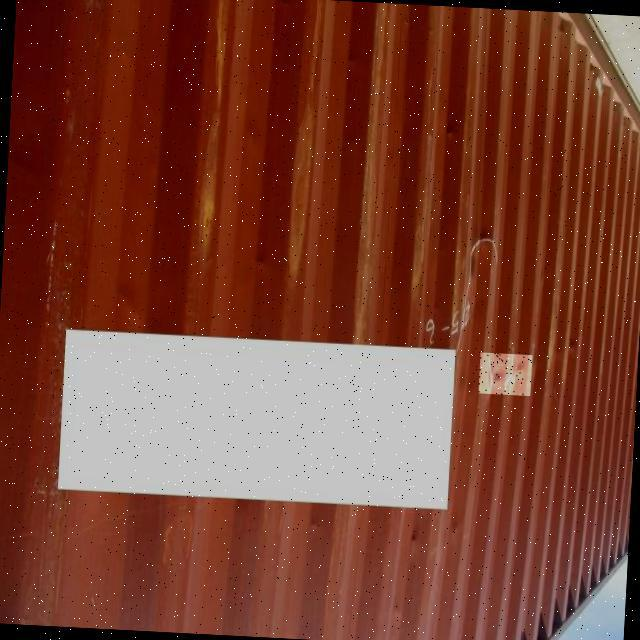Minor-Dent: (479, 353, 533, 397)
